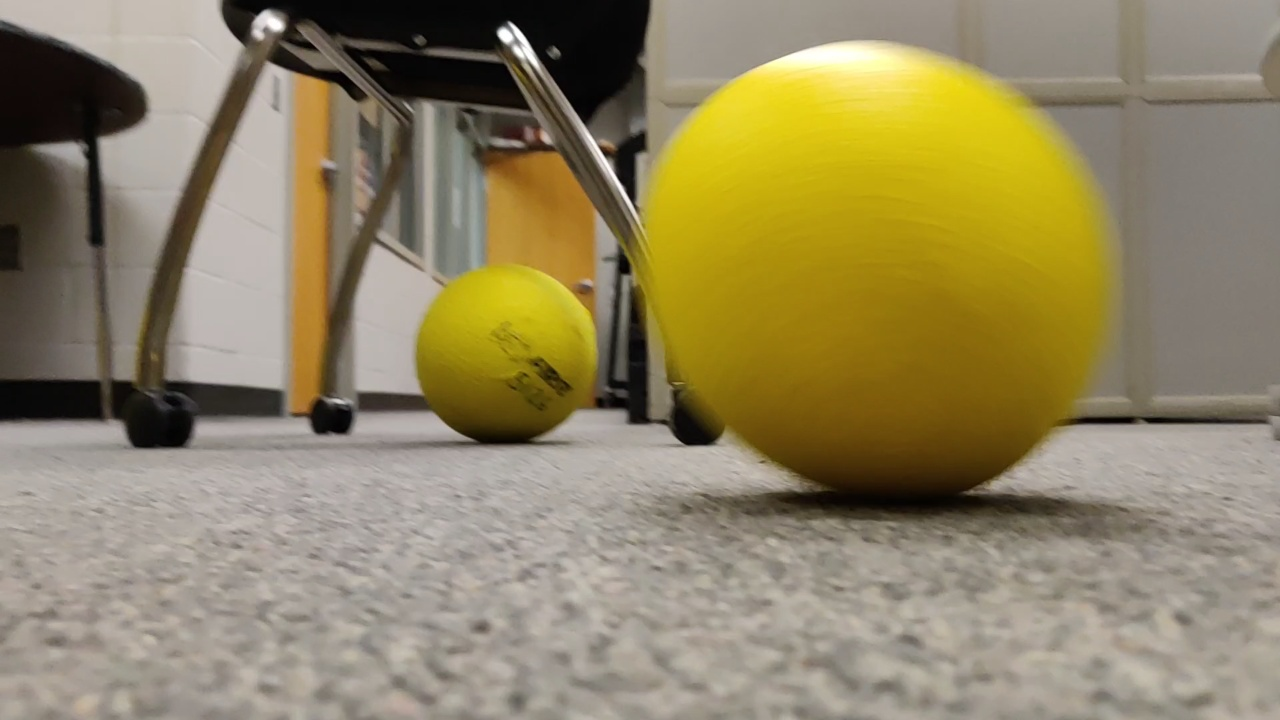Ball: (634, 37, 1115, 515), (415, 262, 602, 444)
